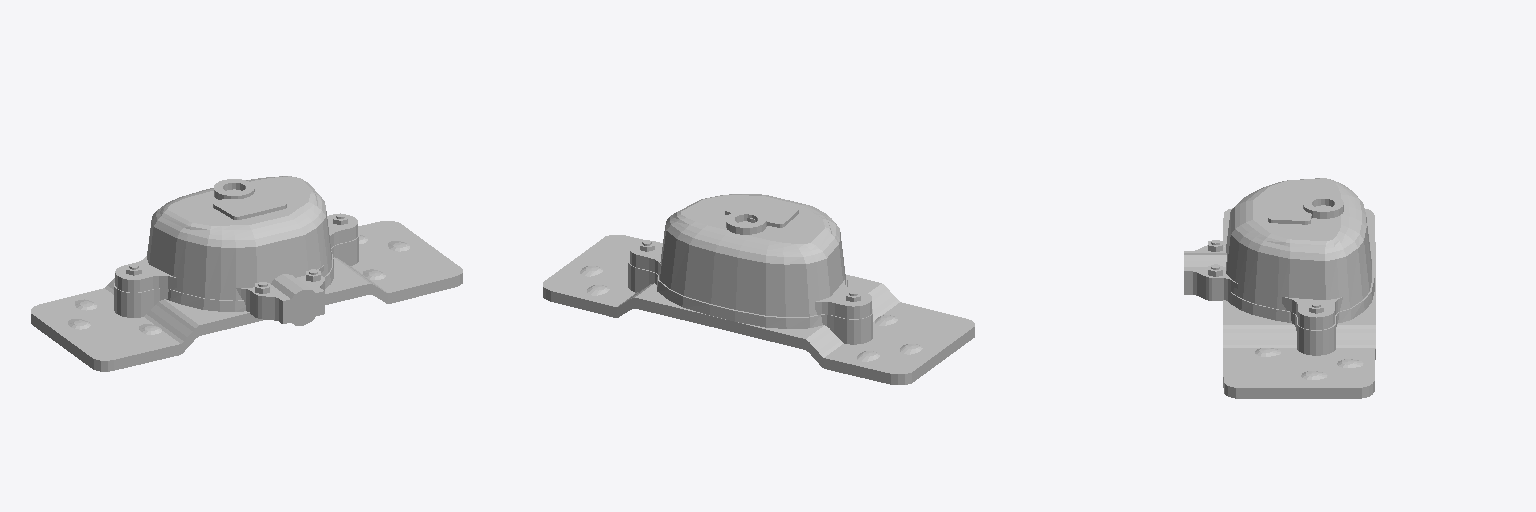
The model's file is bnca-stand-base.obj.
3 renders of one model, left to right at view 1: azimuth 30°, elevation 25°; view 2: azimuth 150°, elevation 25°; view 3: azimuth 270°, elevation 25°, orthographic.
Parts seen in each view (by area): view 1: B_NCA_Base; view 2: B_NCA_Base; view 3: B_NCA_Base.
Part boxes in pixels (x1,y1,x2,y2): B_NCA_Base: (31,176,462,371); B_NCA_Base: (543,194,974,384); B_NCA_Base: (1184,178,1375,398).
Size of the model in its own units: 0.719 by 0.1958 by 0.3222.